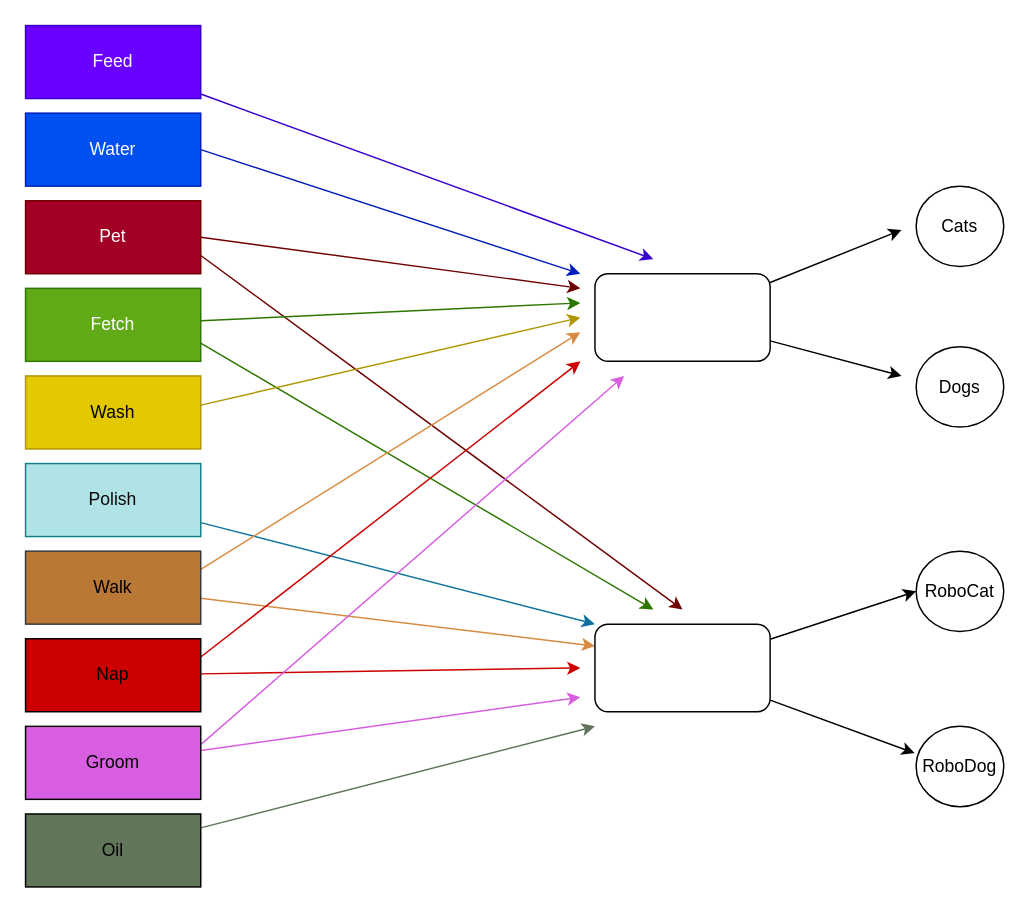
Image size: 1029x913. Some labels were removed from this diagram. The centre of each missing label's shape, as x and y in pixels:
"Regular Pets" belongs at pixel 681 316.
"Robo Pets" belongs at pixel 681 667.
